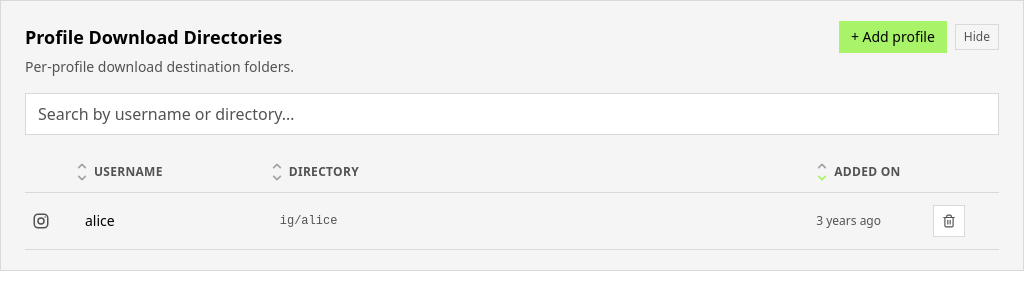
Test case: ProfileDirectoriesCard › switches a cell into edit mode when clicked
Click the button "alice" at (161, 221), box [76, 206, 247, 236]
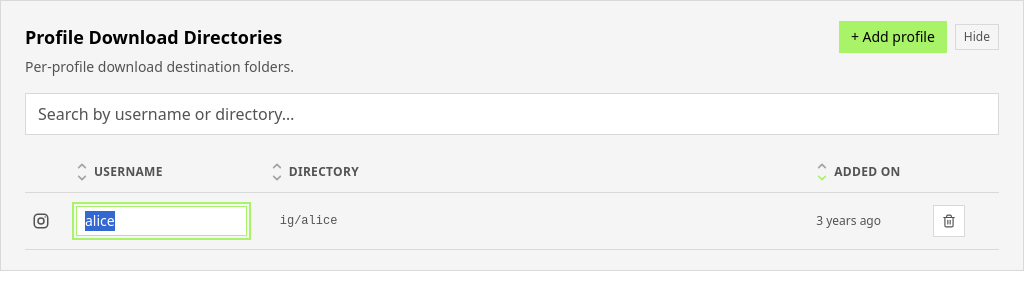
Expected: the field with test id "row-alice-username-input" is shown, [76, 206, 247, 236]
